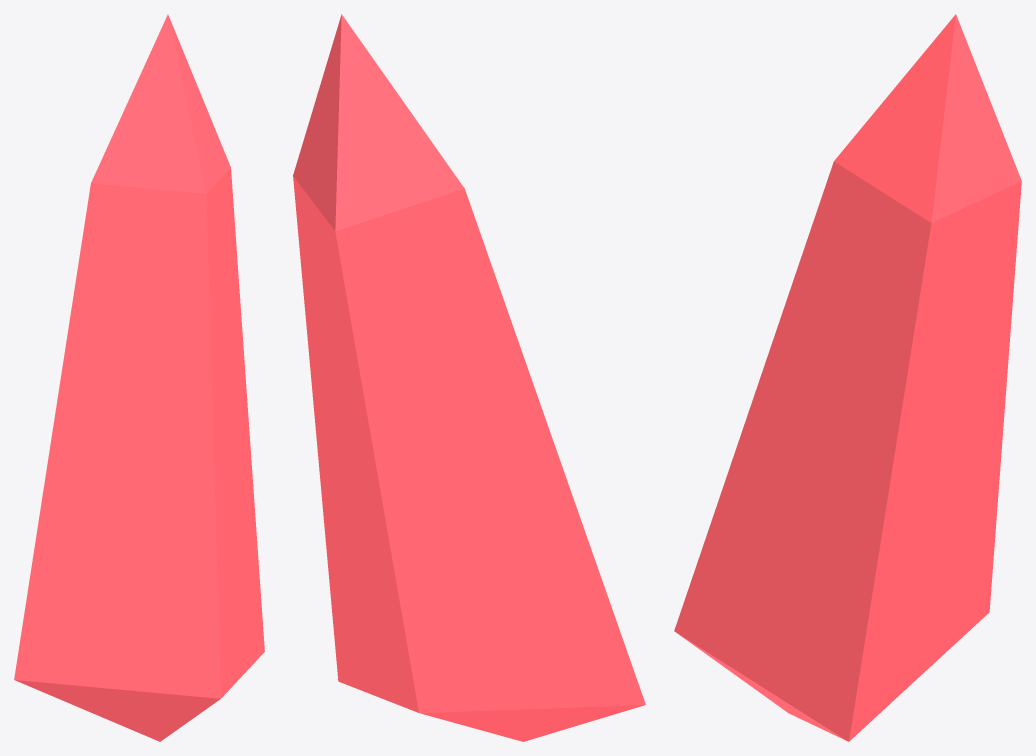
File: H1_RPl_Blob1.gltf
3 renders of one model, left to right at view 1: azimuth 30°, elevation 25°; view 2: azimuth 150°, elevation 25°; view 3: azimuth 270°, elevation 25°, orthographic. The views are drawn at different scales.
Parts seen in each view (by area): view 1: H1_RPl_Blob1; view 2: H1_RPl_Blob1; view 3: H1_RPl_Blob1.
Boxes of the visible parts, <box> form: H1_RPl_Blob1: <box>14,14,264,741</box>; H1_RPl_Blob1: <box>293,14,645,741</box>; H1_RPl_Blob1: <box>674,14,1021,741</box>.
Bounding box in the file's own units: 0.6335 × 1.53 × 0.6477.
